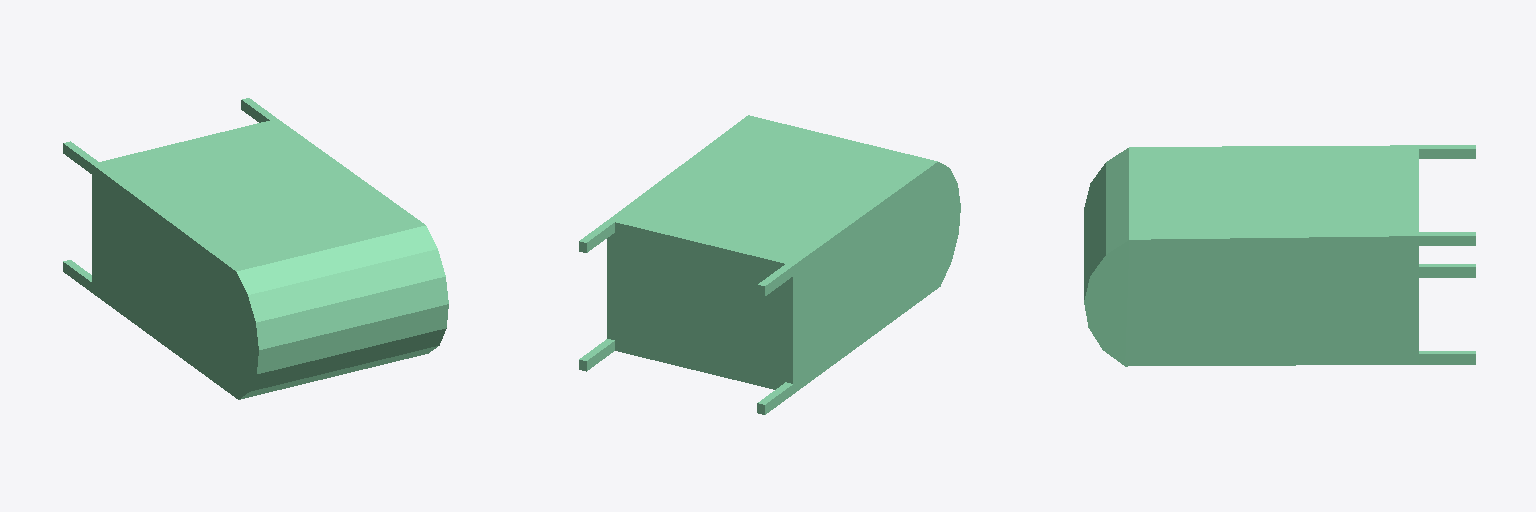
The model's file is mail.obj.
The picture shows the model from 3 angles: view 1: azimuth 30°, elevation 25°; view 2: azimuth 150°, elevation 25°; view 3: azimuth 270°, elevation 25°; orthographic projection.
Visible parts, largest first — view 1: Cylinder01; view 2: Cylinder01; view 3: Cylinder01.
Part boxes in pixels (left/top/right/bottom): Cylinder01: left=63, top=98, right=448, bottom=399; Cylinder01: left=579, top=115, right=960, bottom=414; Cylinder01: left=1084, top=145, right=1475, bottom=366.
Bounding box in the file's own units: 3.96 × 2.56 × 7.07.